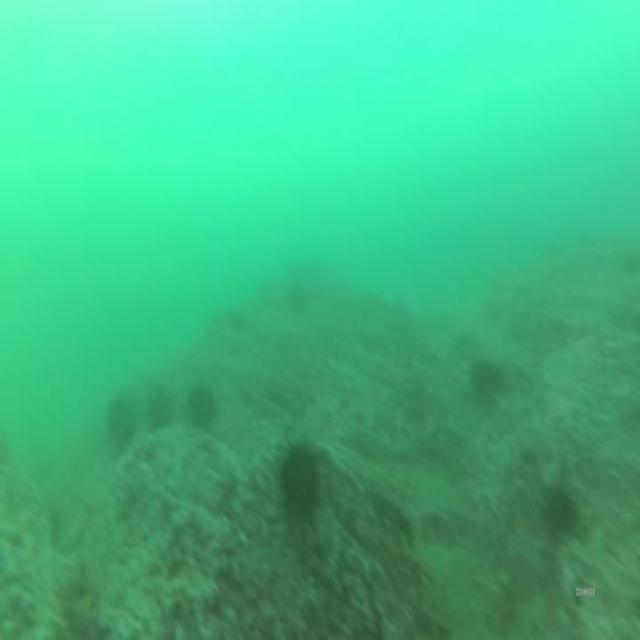echinus: (272, 428, 324, 530), (538, 474, 585, 548), (104, 390, 140, 452), (467, 352, 505, 408), (185, 379, 220, 433), (143, 386, 177, 436)
